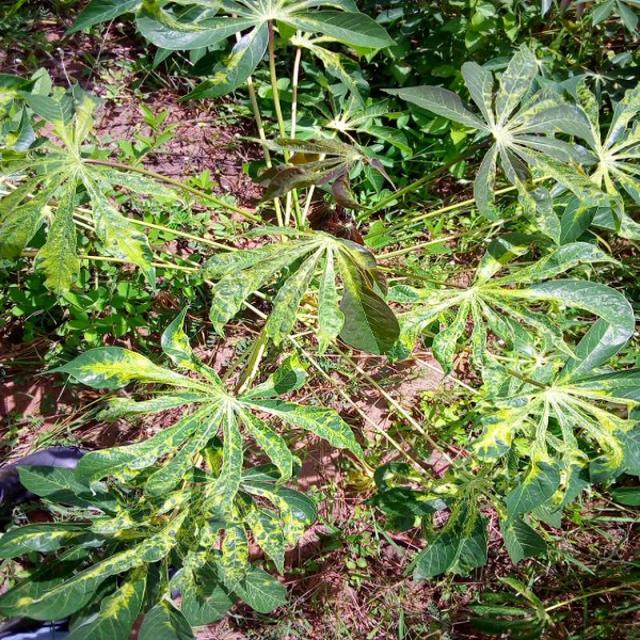cassava leaf: (397, 42, 600, 223)
